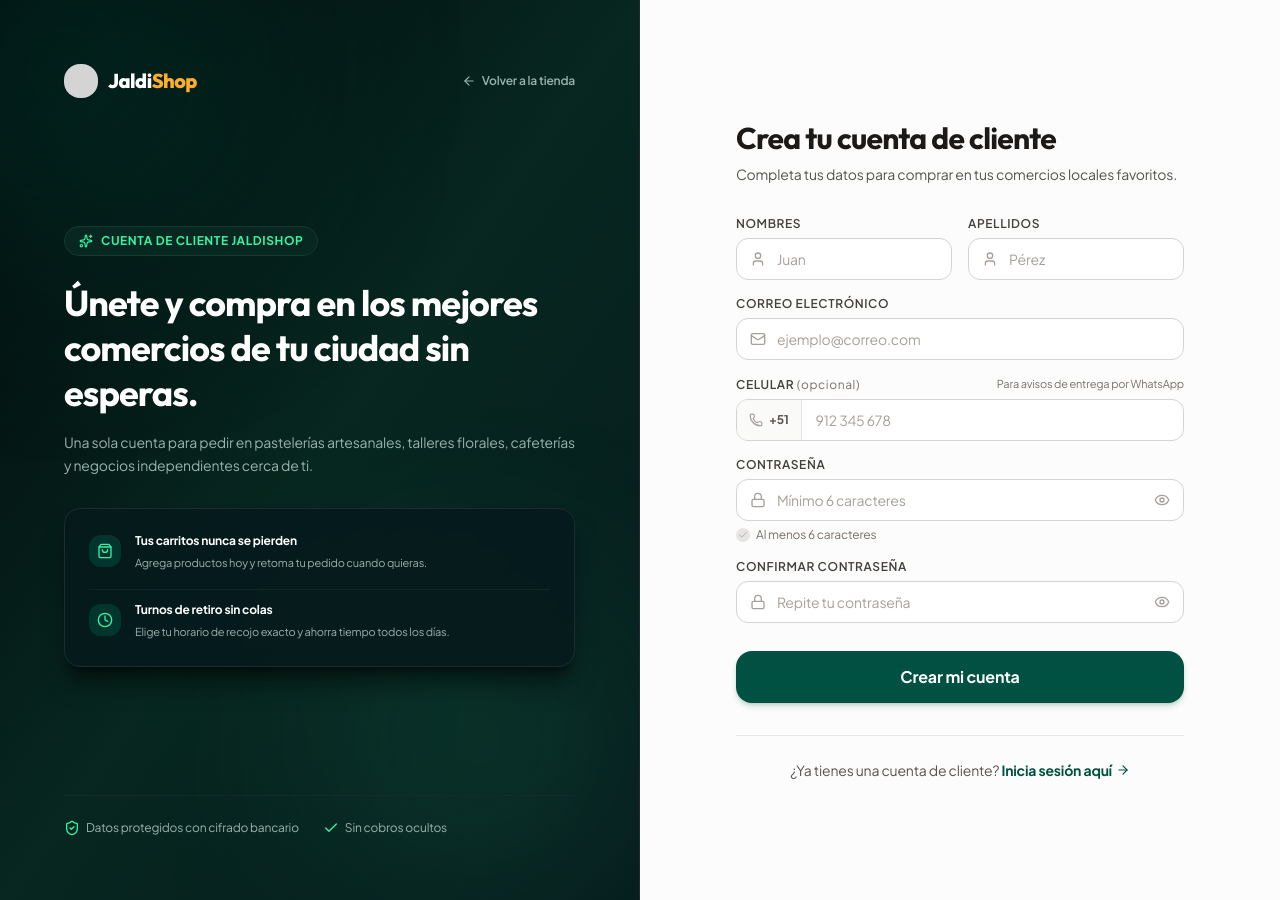
it: RegisterForm Component › displays field error when email is already registered (409 Conflict)
Type "Ana" into the field labelled "Nombres" at (844, 259), box [736,238,952,280]
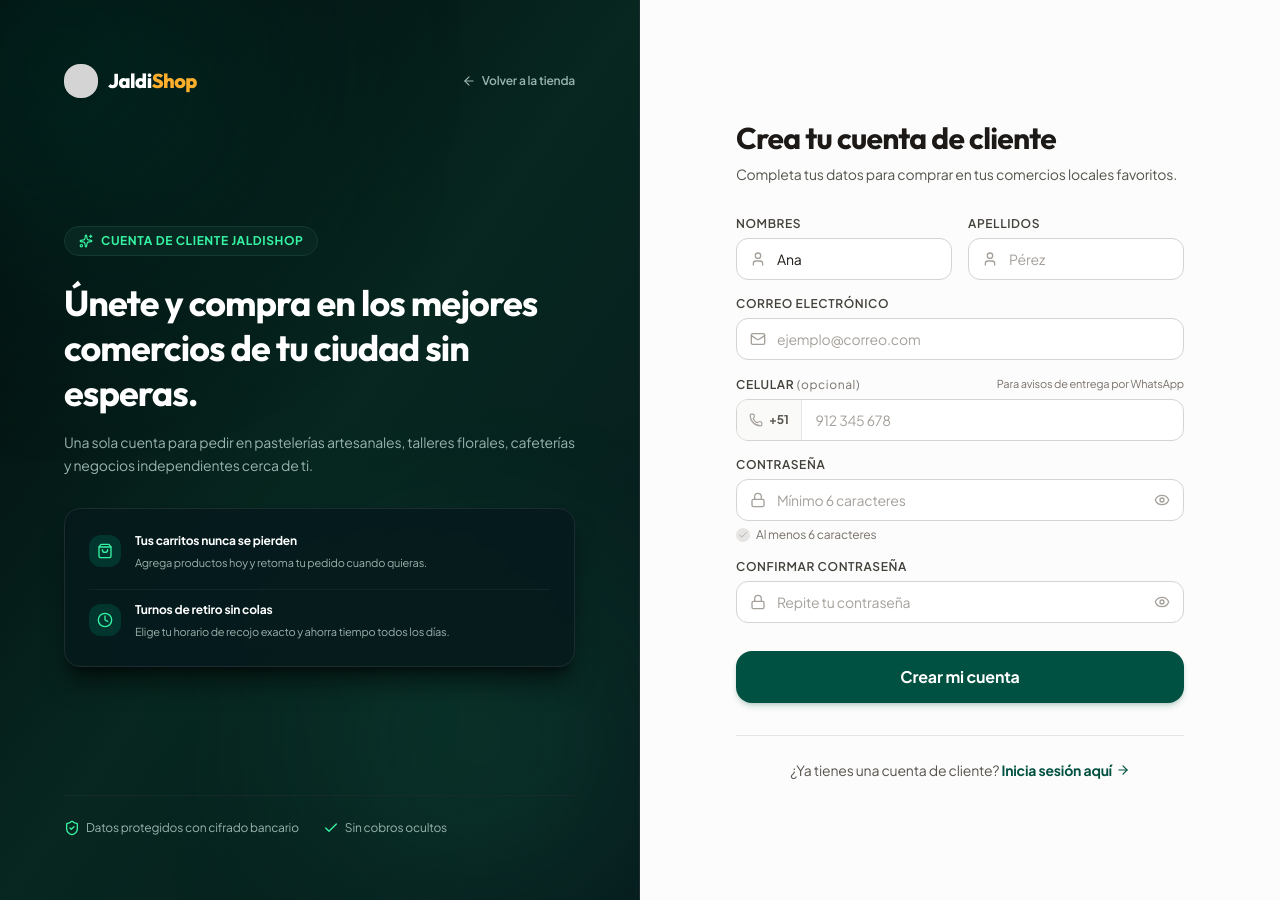
Type "Torres" into the field labelled "Apellidos" at (1076, 259), box [968,238,1184,280]
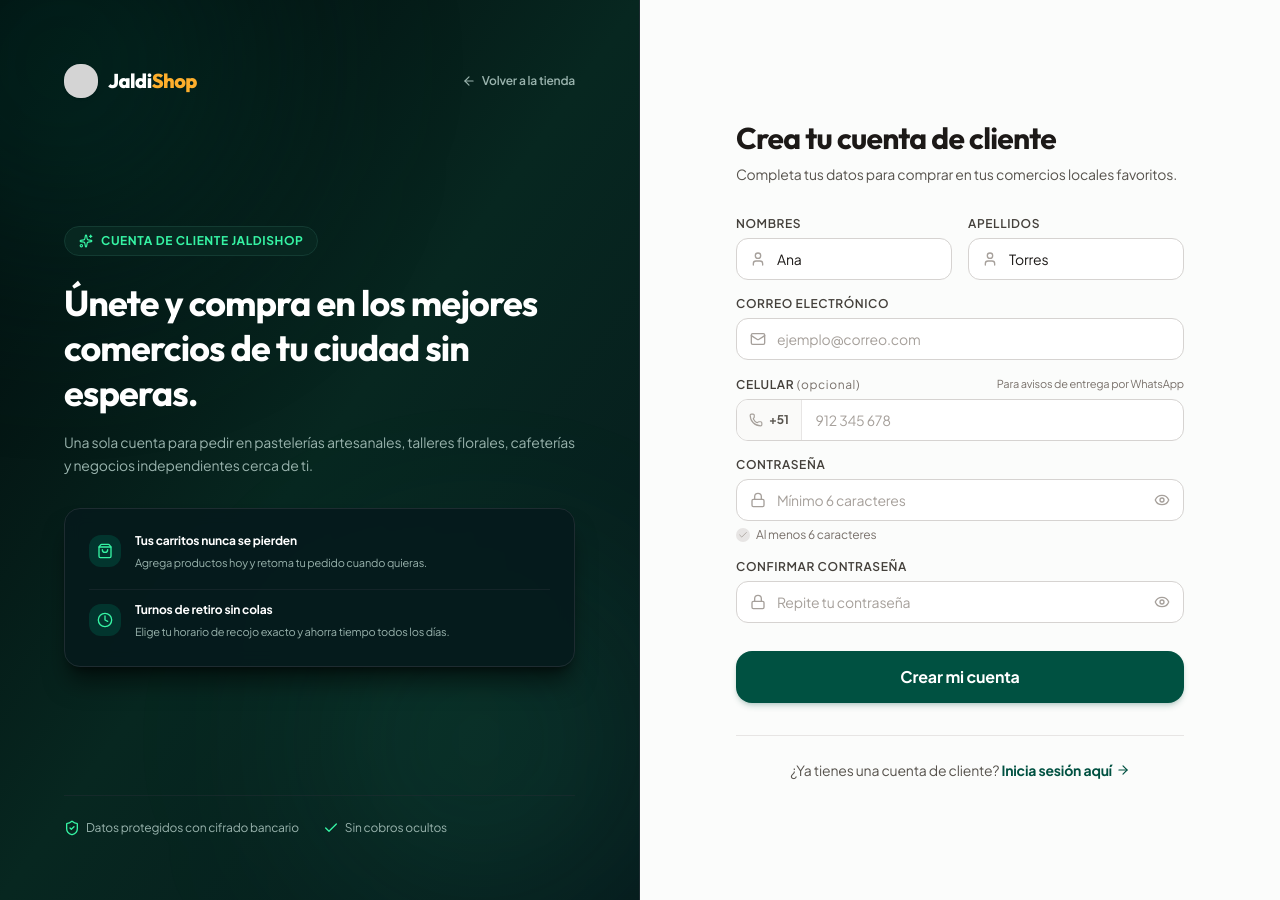
Type "existente@example.com" into the field labelled "Correo electrónico" at (960, 339), box [736,318,1184,360]
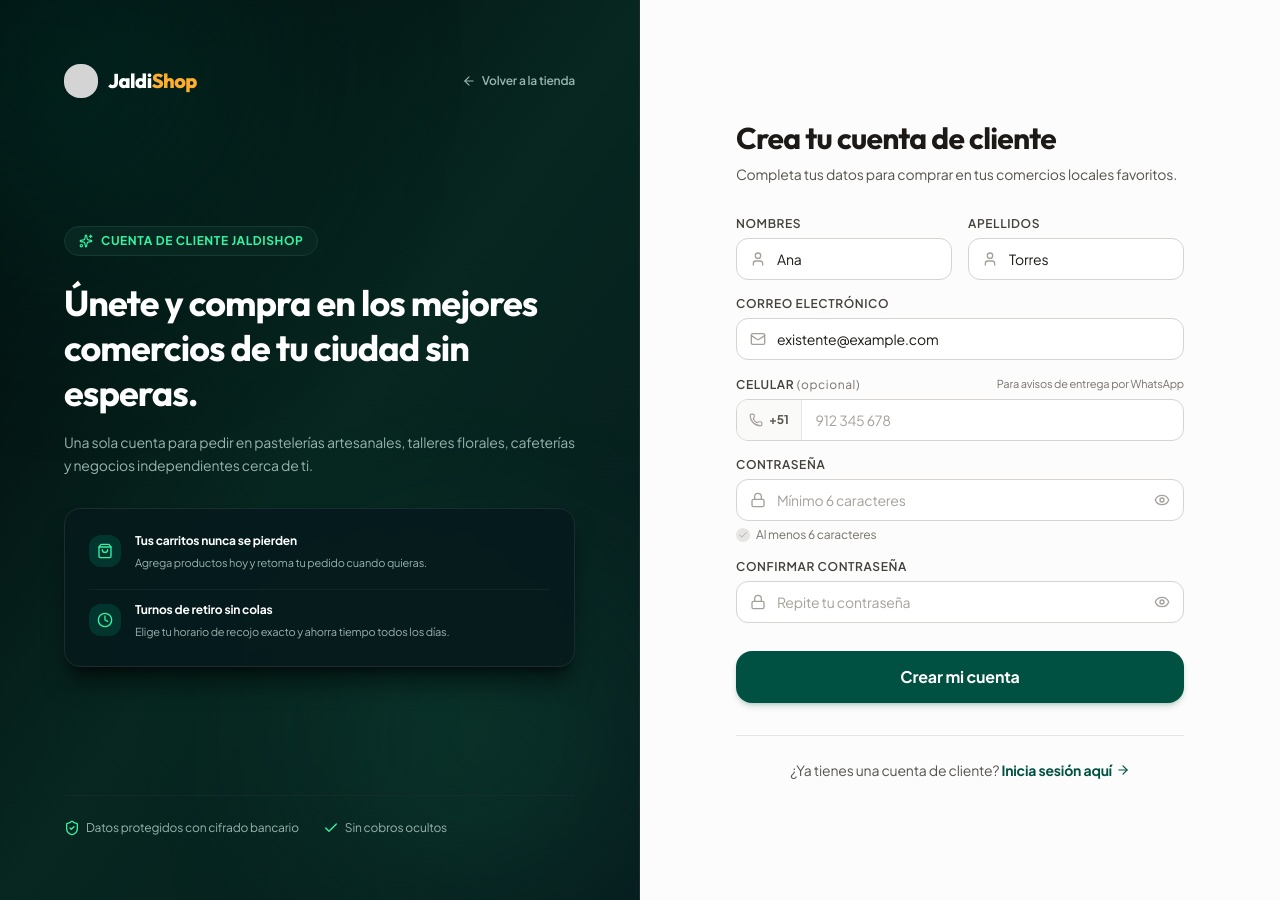
Type "password123" into the password field labelled "Contraseña" at (960, 500), box [736,479,1184,521]
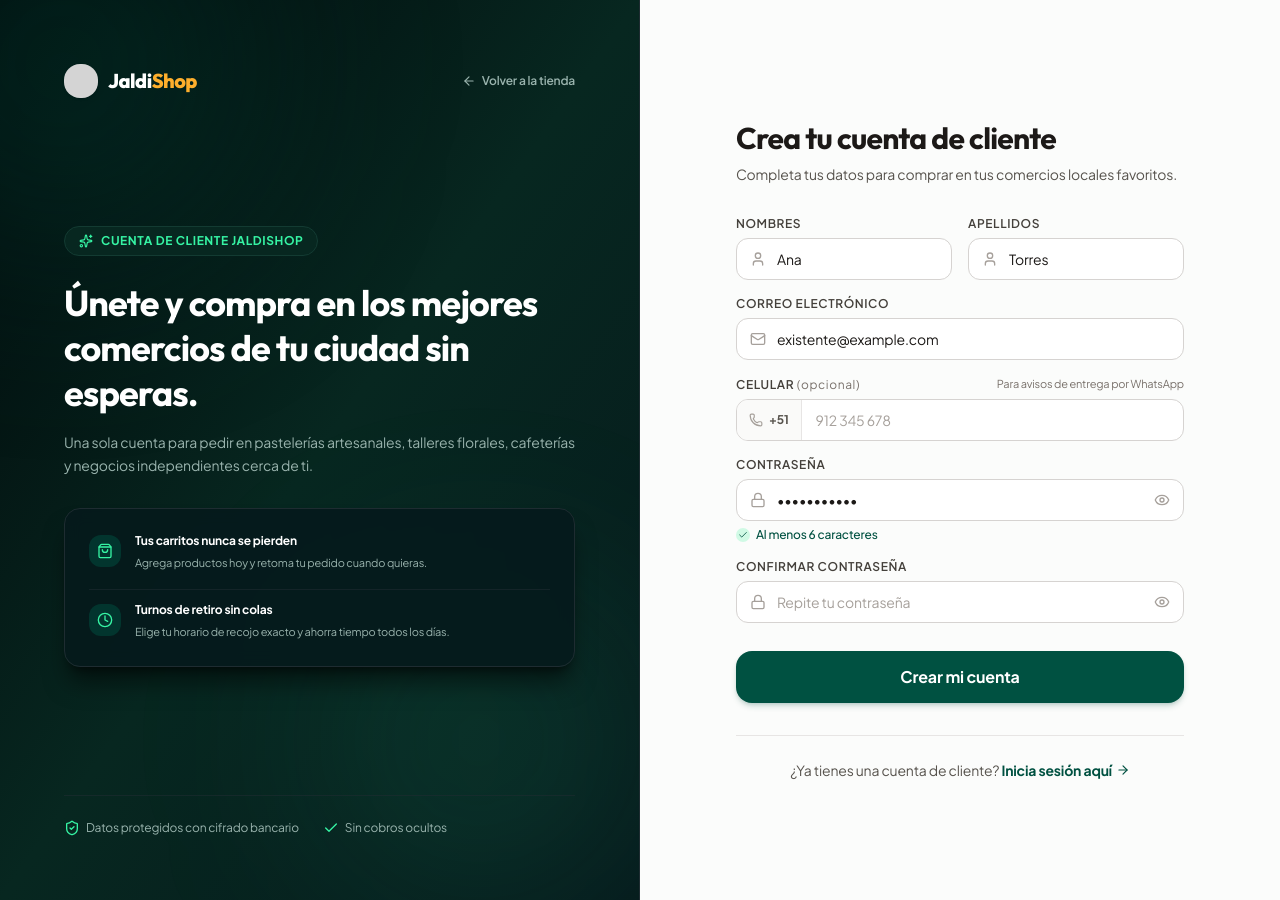
Type "password123" into the password field labelled "Confirmar contraseña" at (960, 602), box [736,581,1184,623]
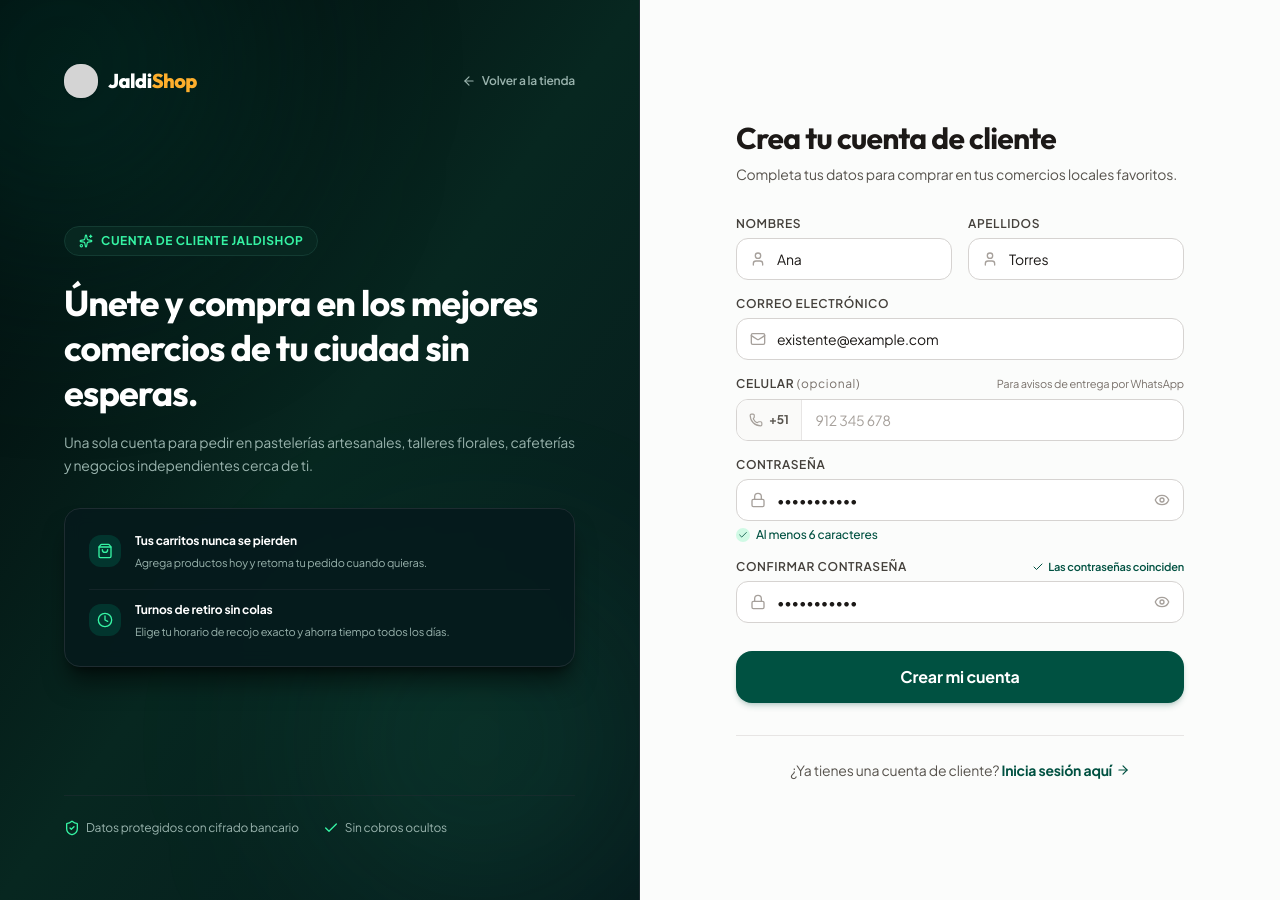
Click the button "Crear mi cuenta" at (960, 677), box [736,651,1184,703]
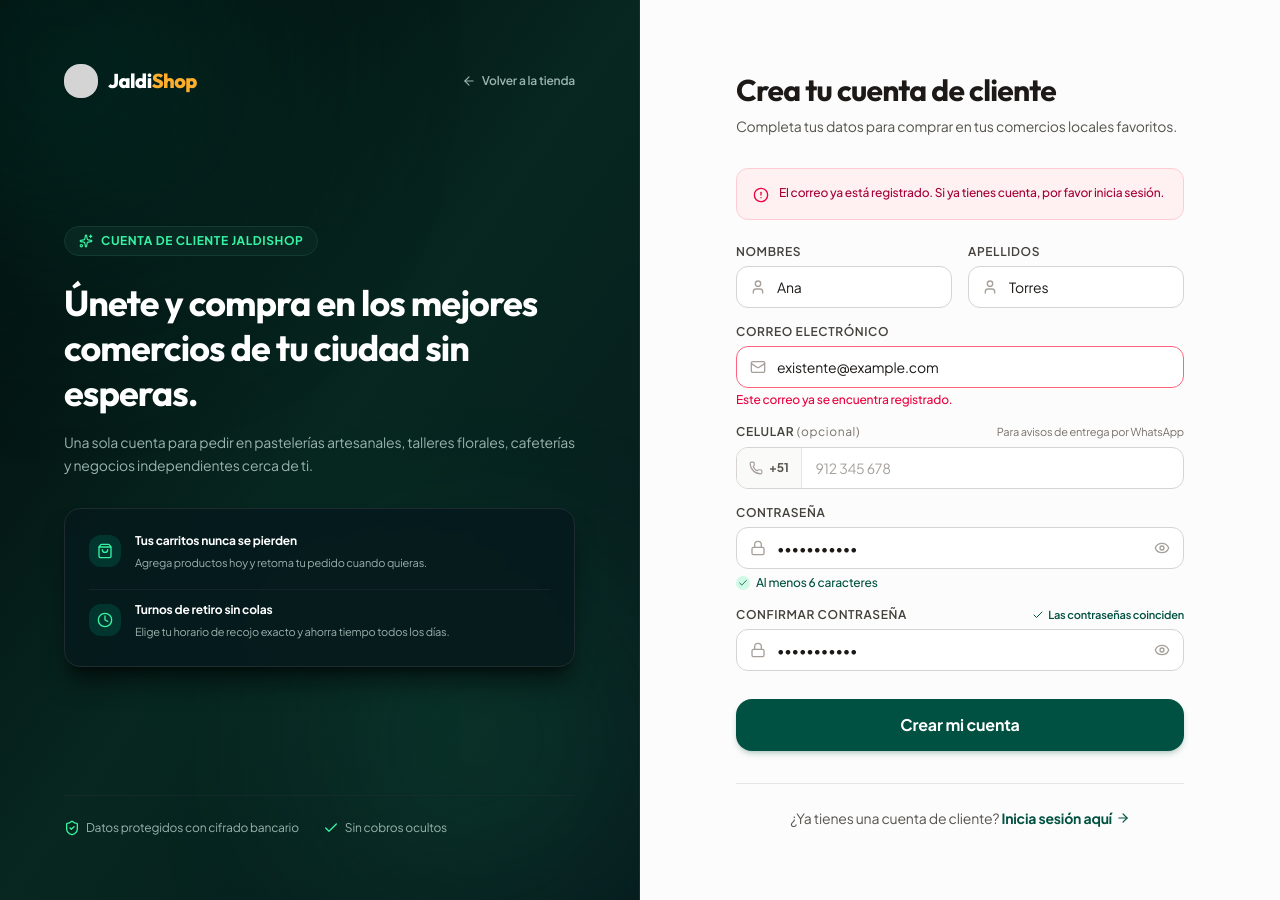
Expected: the text "Este correo ya se encuentra registrado." is shown, [736,392,952,407]
